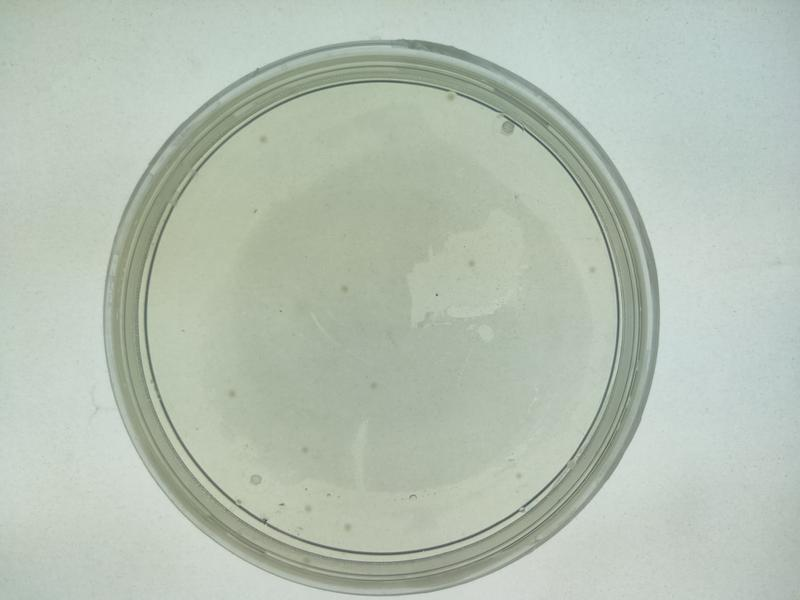colony: (355, 373, 390, 403), (458, 249, 488, 278), (289, 437, 322, 463), (218, 383, 243, 408), (333, 279, 359, 300)
